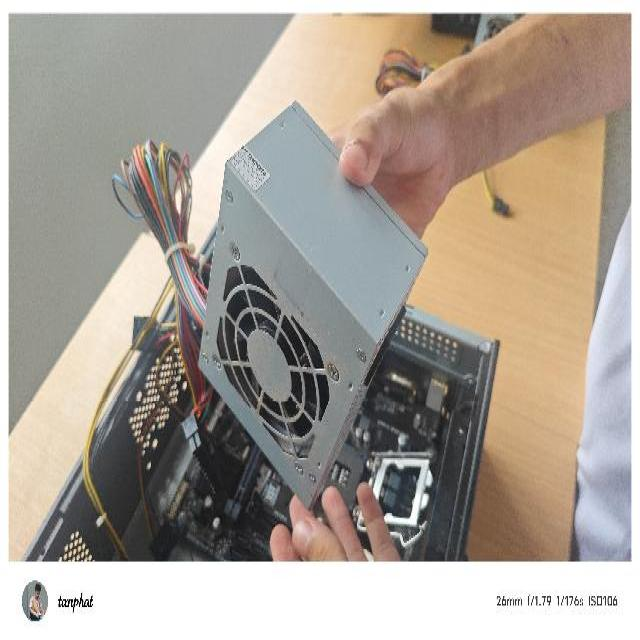PSU: (192, 97, 430, 515)
